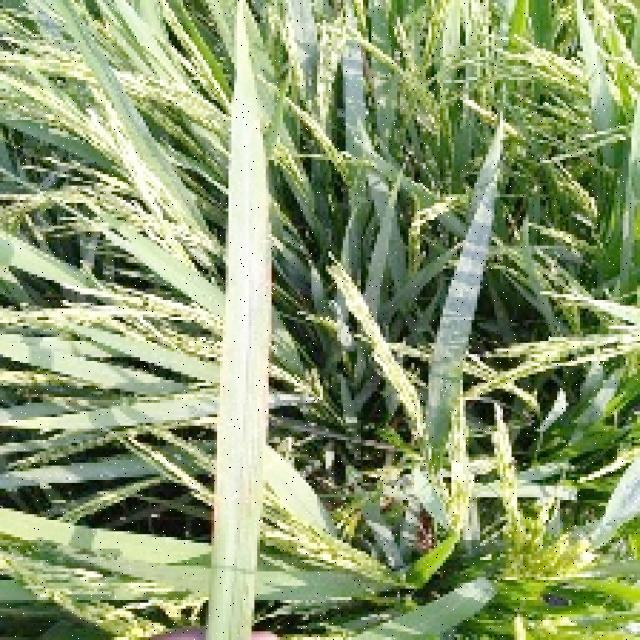health: (215, 0, 267, 640)
